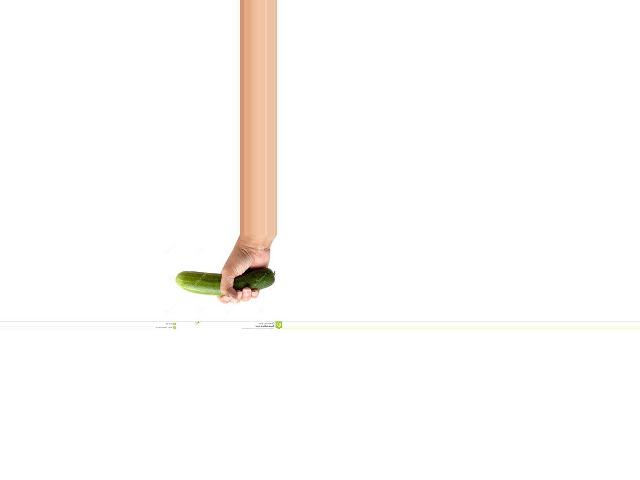cucumber: (175, 268, 273, 296)
